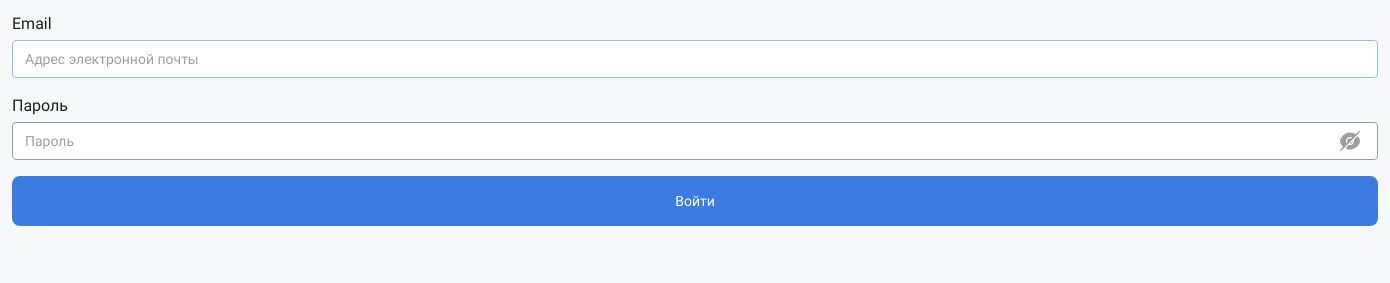
Test: LoginForm › Показывает ошибку 401
Type "test@mail.ru" into the field with placeholder "Адрес электронной почты".
click(695, 59); type("test@mail.ru")  # box [12,40,1378,78]
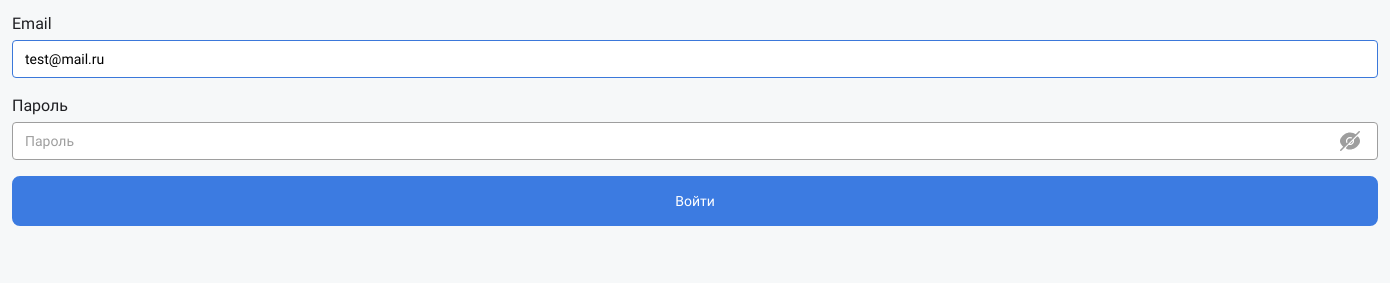
Type "password" into the password field with placeholder "Пароль".
click(695, 141); type("password")  # box [12,122,1378,160]
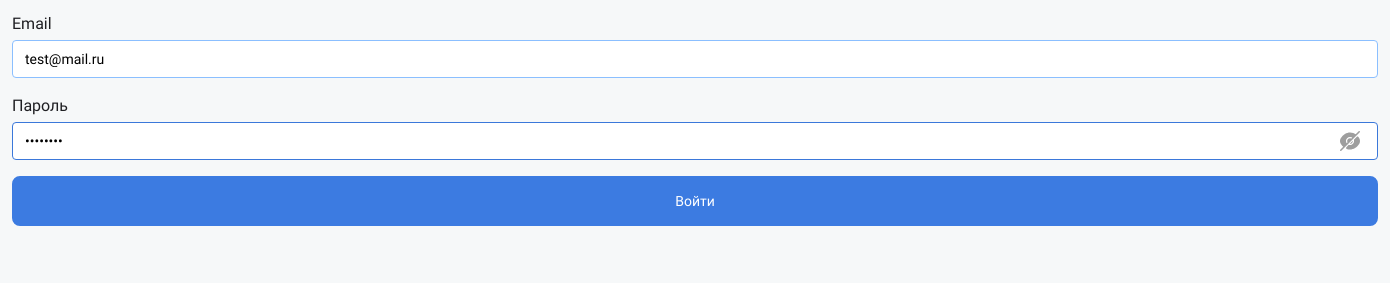
Click the button "Войти".
click(695, 201)  # box [12,176,1378,226]
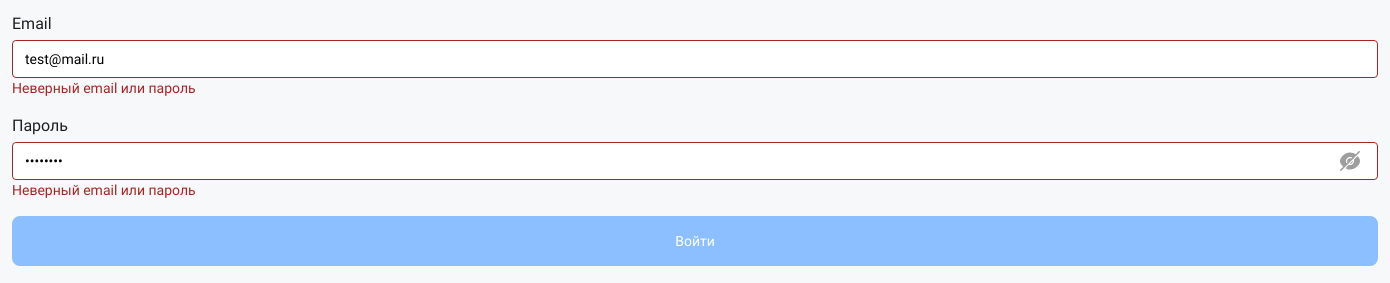
Expected: the text "Неверный email или пароль" is shown 2 times, [12,80,196,96]; [12,182,196,198]
